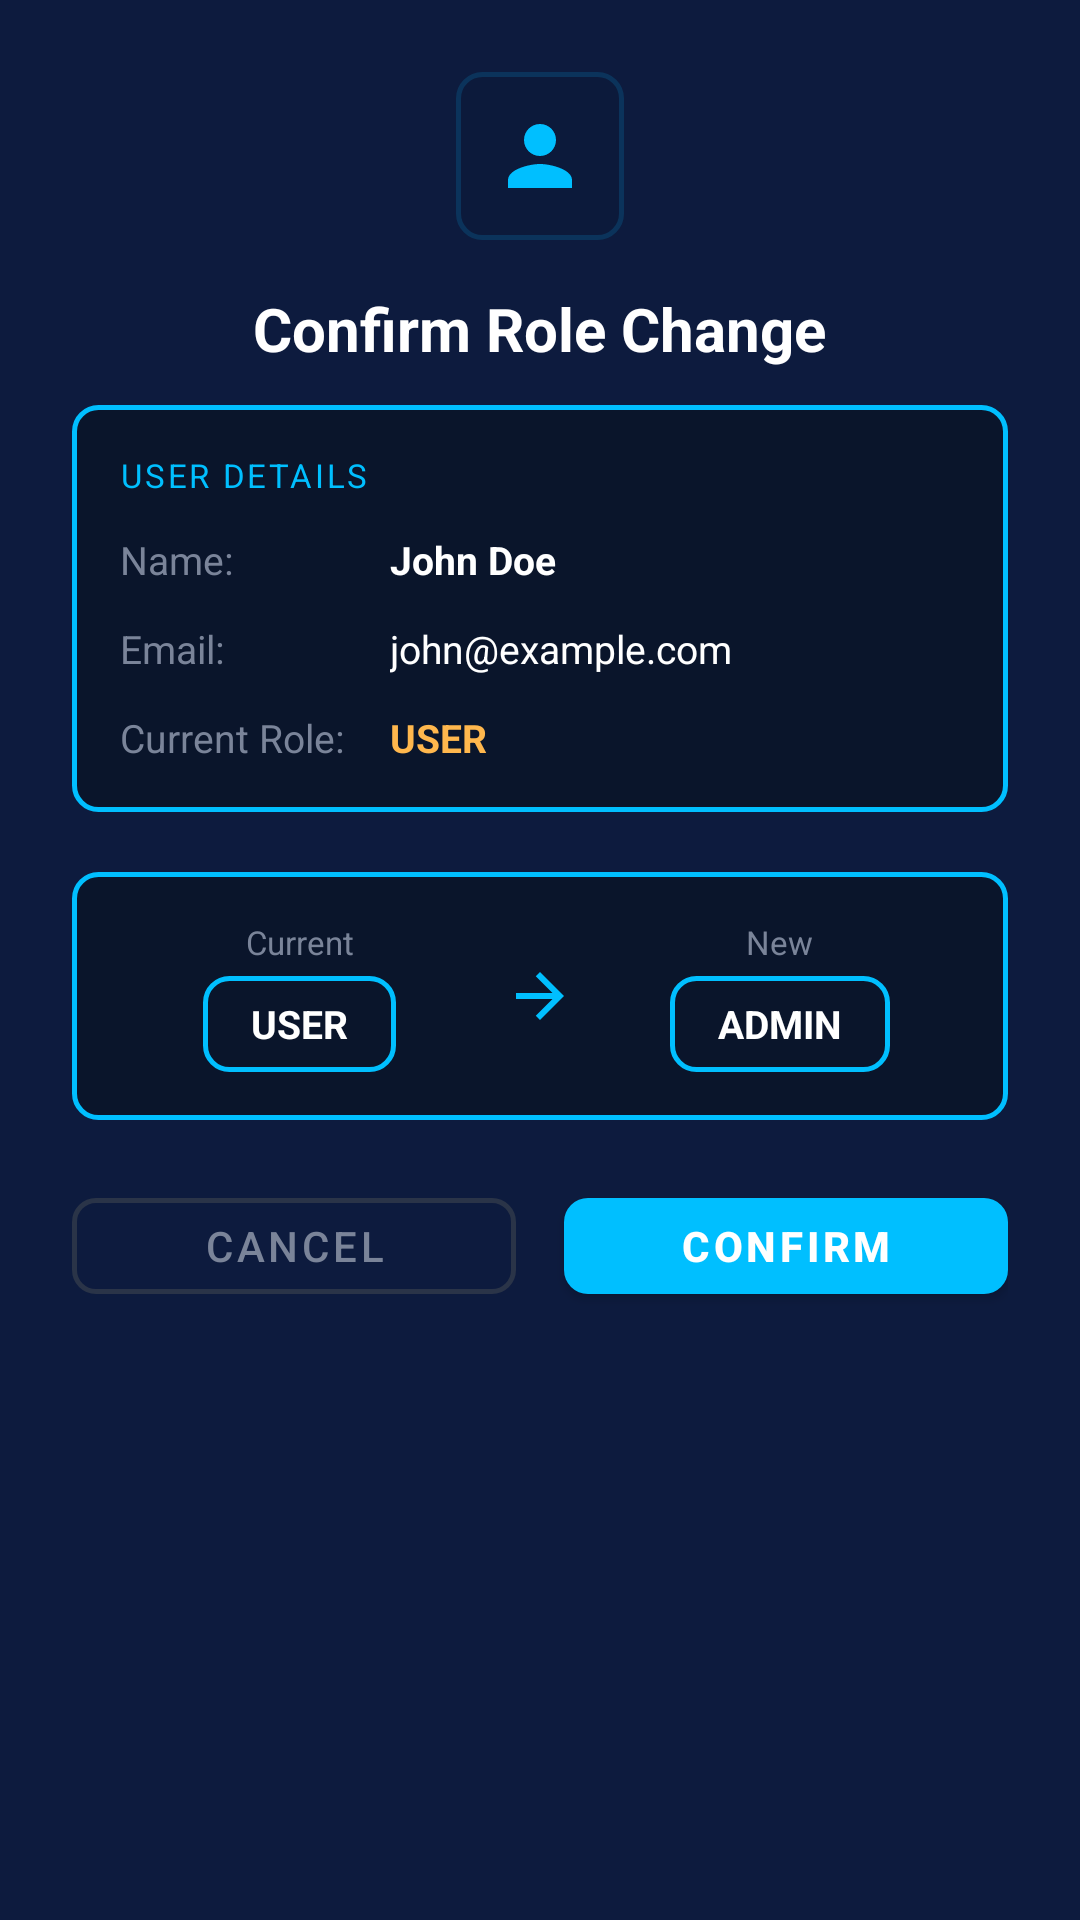

Where icons sit on this 1080×1920 app screen, as (x1, y1, x2, y2):
arrow forward: (516, 972, 564, 1020)
profile: (508, 124, 572, 188)
